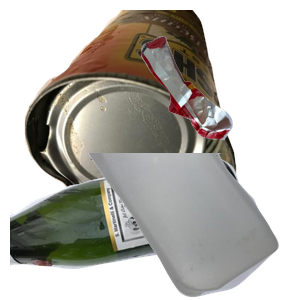glass: (10, 154, 246, 300)
metal: (22, 10, 251, 190)
plastic: (84, 153, 300, 300)
trash: (139, 34, 300, 167)
